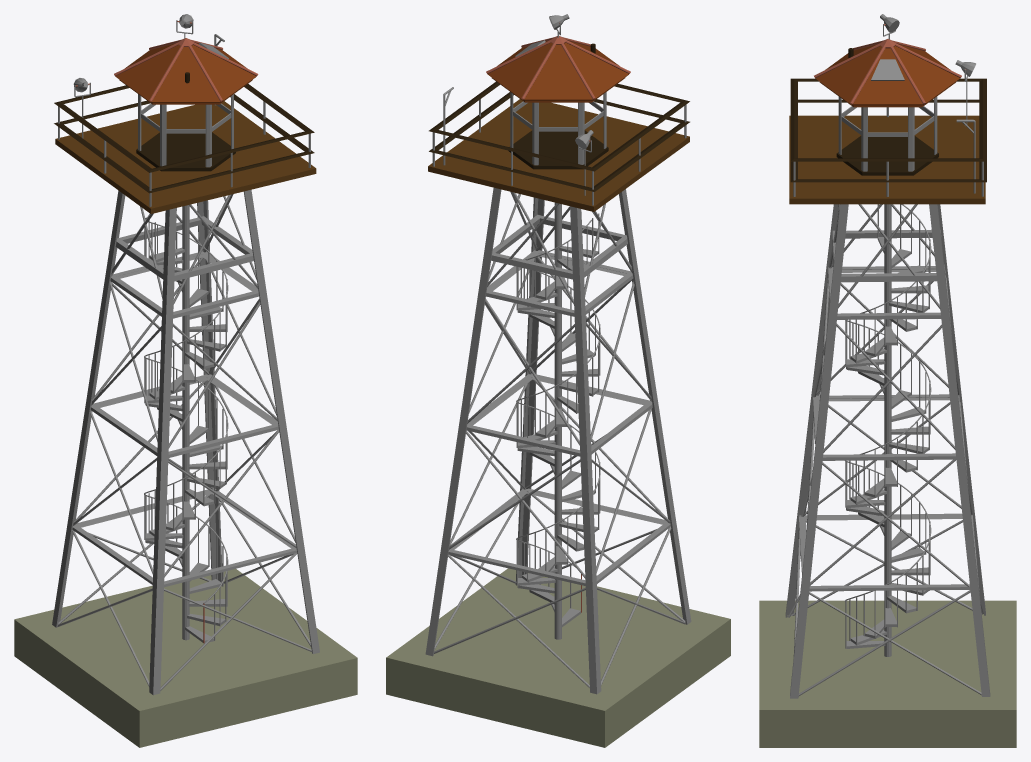
Rendered from Tower_Mats.obj.
3 renders of one model, left to right at view 1: azimuth 30°, elevation 25°; view 2: azimuth 150°, elevation 25°; view 3: azimuth 270°, elevation 25°, orthographic. The views are drawn at different scales.
Parts seen in each view (by area): view 1: pCube13, pCube1, pCube3, pCone1, pCube9, pCube11, pCube10, pCylinder26, pCube8, pCube7, pCylinder9, pCube12 (+5 smaller); view 2: pCube13, pCube1, pCube11, pCone1, pCube10, pCube3, pCube9, pCube8, pCylinder26, pCube7, pCylinder9, pCube12 (+5 smaller); view 3: pCube13, pCube1, pCone1, pCube9, pCube10, pCylinder26, pCylinder9, pCube3, pTorus3, pCube8, pCube7, pCube12 (+14 smaller).
Boxes of the visible parts, x1,y1,x2,y2 form: pCube13: (14, 569, 357, 747); pCube1: (55, 101, 316, 213); pCube3: (149, 208, 176, 695); pCone1: (115, 43, 256, 104); pCube9: (244, 189, 319, 653); pCube11: (52, 190, 125, 627); pCube10: (197, 200, 222, 582); pCylinder26: (182, 205, 189, 640); pCube8: (72, 489, 297, 587); pCube7: (91, 374, 278, 457); pCylinder9: (136, 132, 235, 171); pCube12: (115, 216, 253, 281); pCube13: (386, 568, 730, 747); pCube1: (428, 99, 689, 211); pCube11: (570, 206, 601, 694); pCone1: (487, 41, 628, 102); pCube10: (425, 187, 501, 656); pCube3: (619, 189, 691, 624); pCube9: (515, 197, 544, 585); pCube8: (448, 488, 670, 585); pCylinder26: (554, 202, 561, 639); pCube7: (466, 373, 652, 456); pCylinder9: (508, 130, 608, 169); pCube12: (491, 214, 627, 279); pCube13: (759, 600, 1016, 747); pCube1: (789, 115, 985, 204); pCone1: (815, 44, 960, 107); pCube9: (790, 204, 848, 698); pCube10: (929, 204, 990, 696); pCylinder26: (884, 204, 891, 656); pCylinder9: (836, 136, 938, 175); pCube3: (785, 204, 838, 617); pTorus3: (790, 78, 986, 161); pCube8: (798, 513, 974, 591); pCube7: (812, 394, 960, 460); pCube12: (832, 229, 941, 282).
Bounding box in the file's own units: 19.94 × 57.51 × 19.85.
